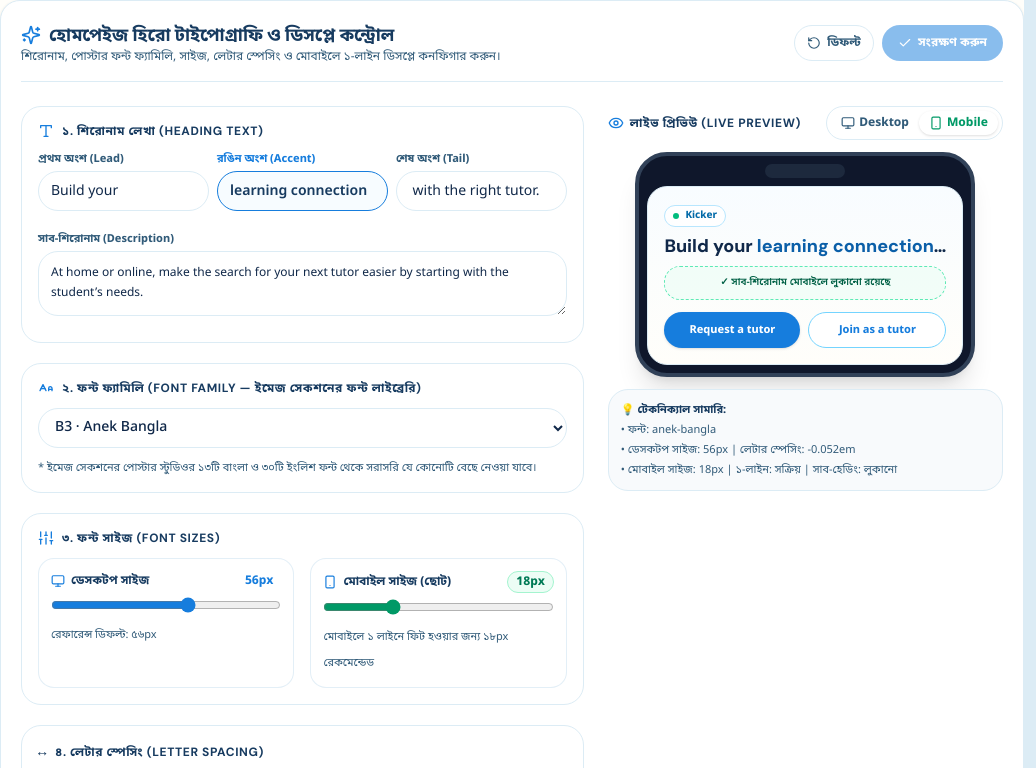
Scenario: HomeHeroTypographySuite › switches between Desktop and Mobile preview tabs
Expected: the text "✓ সাব-শিরোনাম মোবাইলে লুকানো রয়েছে" is shown, [664,266,946,300]
# Switch to desktop
Click the button "Desktop".
click(875, 123)  # box [831,111,919,135]
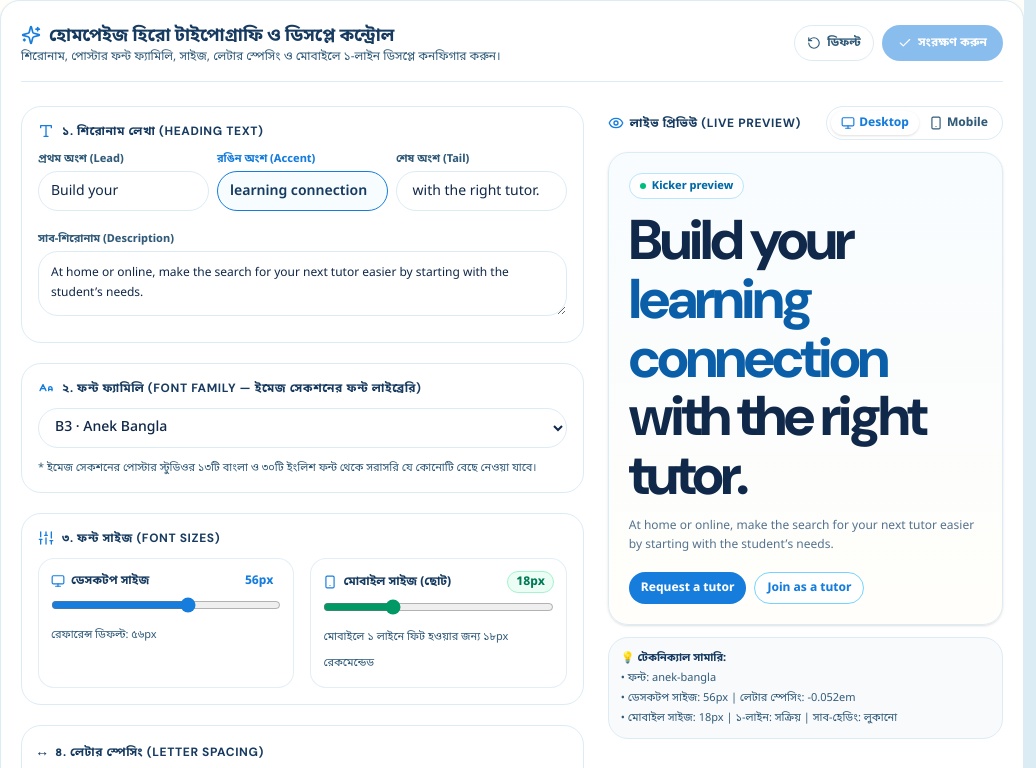
Result: the text "Kicker preview" is shown at [629,173,744,199]
# Switch back to mobile
Click the button "Mobile".
click(958, 123)  # box [919,111,998,135]
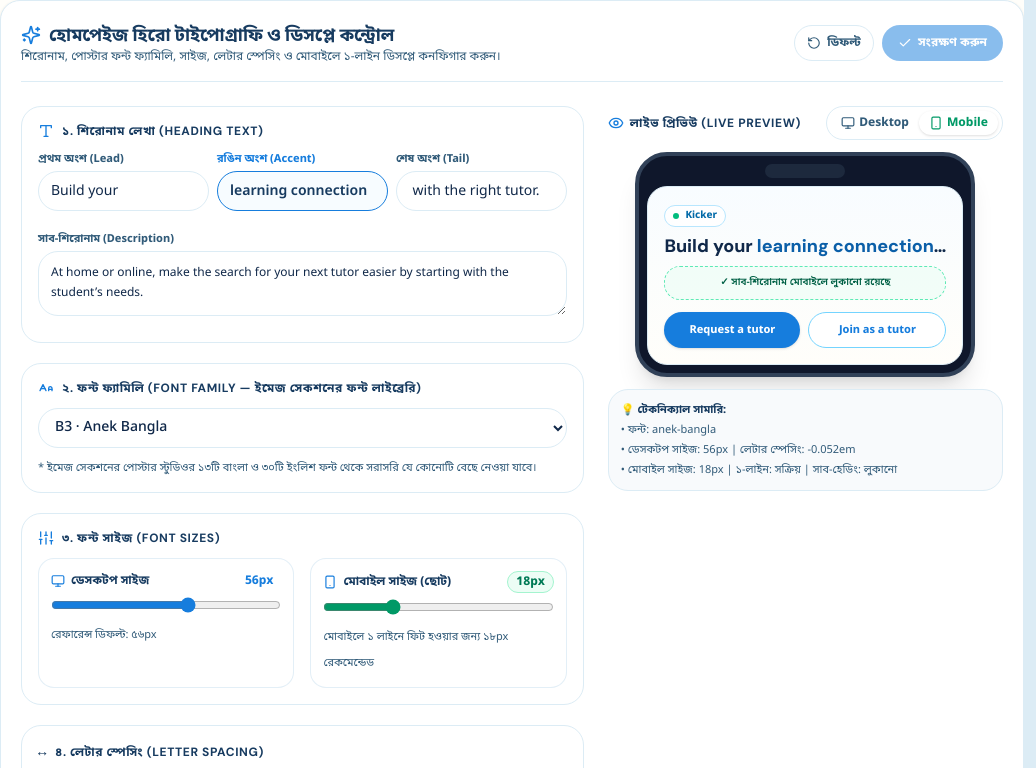
Result: the text "✓ সাব-শিরোনাম মোবাইলে লুকানো রয়েছে" is shown at [664,266,946,300]
